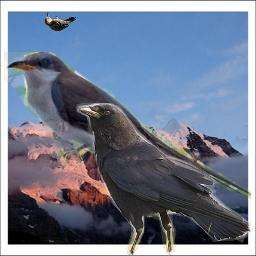Crow: (76, 103, 251, 255)
Cuckoo: (4, 52, 251, 201)
Woodpecker: (42, 11, 78, 31)
